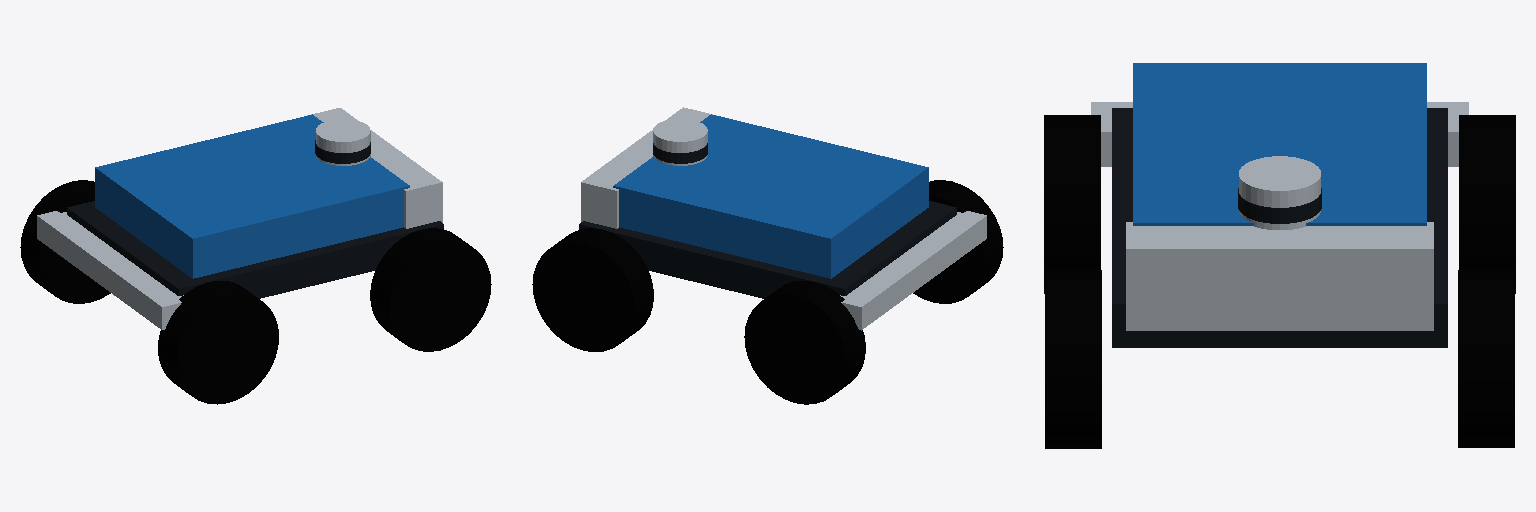
The robot description file, URDF, robot "agribot_ackermann_lightweight":
<?xml version="1.0"?>
<robot name="agribot_ackermann_lightweight">
  <!--
    Low-complexity RViz model for software-rendered targets. Joint geometry and
    calibrated sensor centers intentionally match ackermann_vehicle.urdf.
  -->
  <material name="body_blue">
    <color rgba="0.13 0.42 0.68 1"/>
  </material>
  <material name="body_silver">
    <color rgba="0.72 0.75 0.78 1"/>
  </material>
  <material name="dark_metal">
    <color rgba="0.10 0.12 0.14 1"/>
  </material>
  <material name="tire_black">
    <color rgba="0.025 0.025 0.025 1"/>
  </material>
  <material name="sensor_red">
    <color rgba="0.75 0.08 0.06 1"/>
  </material>

  <link name="base_link">
    <visual name="lightweight_lower_chassis">
      <origin xyz="0.263 0 0.085" rpy="0 0 0"/>
      <geometry>
        <box size="0.66 0.48 0.07"/>
      </geometry>
      <material name="dark_metal"/>
    </visual>
    <visual name="lightweight_body">
      <origin xyz="0.255 0 0.165" rpy="0 0 0"/>
      <geometry>
        <box size="0.54 0.42 0.10"/>
      </geometry>
      <material name="body_blue"/>
    </visual>
    <visual name="lightweight_front_cover">
      <origin xyz="0.555 0 0.145" rpy="0 0 0"/>
      <geometry>
        <box size="0.09 0.44 0.13"/>
      </geometry>
      <material name="body_silver"/>
    </visual>
    <visual name="lightweight_rear_bumper">
      <origin xyz="-0.075 0 0.075" rpy="0 0 0"/>
      <geometry>
        <box size="0.10 0.54 0.055"/>
      </geometry>
      <material name="body_silver"/>
    </visual>
    <visual name="lightweight_lidar_plate">
      <origin xyz="0.48 0 0.177" rpy="0 0 0"/>
      <geometry>
        <box size="0.16 0.18 0.014"/>
      </geometry>
      <material name="dark_metal"/>
    </visual>
    <visual name="lightweight_lidar_support_left">
      <origin xyz="0.48 0.065 0.147" rpy="0 0 0"/>
      <geometry>
        <box size="0.025 0.025 0.06"/>
      </geometry>
      <material name="dark_metal"/>
    </visual>
    <visual name="lightweight_lidar_support_right">
      <origin xyz="0.48 -0.065 0.147" rpy="0 0 0"/>
      <geometry>
        <box size="0.025 0.025 0.06"/>
      </geometry>
      <material name="dark_metal"/>
    </visual>
    <visual name="hipnuc_n300pro">
      <origin xyz="0.1425 0 0.143" rpy="0 0 0"/>
      <geometry>
        <box size="0.028 0.025 0.015"/>
      </geometry>
      <material name="sensor_red"/>
    </visual>
    <visual name="lslidar_c16_v4">
      <origin xyz="0.48 0 0.233" rpy="0 0 0"/>
      <geometry>
        <cylinder radius="0.059" length="0.078"/>
      </geometry>
      <material name="body_silver"/>
    </visual>
    <visual name="lightweight_lidar_band">
      <origin xyz="0.48 0 0.233" rpy="0 0 0"/>
      <geometry>
        <cylinder radius="0.060" length="0.025"/>
      </geometry>
      <material name="dark_metal"/>
    </visual>
  </link>

  <link name="front_left_steering_link"/>
  <joint name="front_left_steering_joint" type="revolute">
    <origin xyz="0.5258472 0.2949655 0.0015843" rpy="0 0 0"/>
    <parent link="base_link"/>
    <child link="front_left_steering_link"/>
    <axis xyz="0 0 1"/>
    <limit lower="-0.384" upper="0.384" effort="200" velocity="1.5"/>
  </joint>

  <link name="front_right_steering_link"/>
  <joint name="front_right_steering_joint" type="revolute">
    <origin xyz="0.5273242 -0.2949655 0.0015843" rpy="0 0 0"/>
    <parent link="base_link"/>
    <child link="front_right_steering_link"/>
    <axis xyz="0 0 1"/>
    <limit lower="-0.384" upper="0.384" effort="200" velocity="1.5"/>
  </joint>

  <link name="front_left_wheel_link">
    <visual>
      <origin xyz="0 0 0" rpy="1.5707963267948966 0 0"/>
      <geometry>
        <cylinder radius="0.1275" length="0.081"/>
      </geometry>
      <material name="tire_black"/>
    </visual>
  </link>
  <joint name="front_left_wheel_joint" type="continuous">
    <origin xyz="0 0 0" rpy="0 0 0"/>
    <parent link="front_left_steering_link"/>
    <child link="front_left_wheel_link"/>
    <axis xyz="0 1 0"/>
  </joint>

  <link name="front_right_wheel_link">
    <visual>
      <origin xyz="0 0 0" rpy="1.5707963267948966 0 0"/>
      <geometry>
        <cylinder radius="0.1275" length="0.081"/>
      </geometry>
      <material name="tire_black"/>
    </visual>
  </link>
  <joint name="front_right_wheel_joint" type="continuous">
    <origin xyz="0 0 0" rpy="0 0 0"/>
    <parent link="front_right_steering_link"/>
    <child link="front_right_wheel_link"/>
    <axis xyz="0 1 0"/>
  </joint>

  <link name="rear_left_wheel_link">
    <visual>
      <origin xyz="0 0 0" rpy="1.5707963267948966 0 0"/>
      <geometry>
        <cylinder radius="0.1275" length="0.081"/>
      </geometry>
      <material name="tire_black"/>
    </visual>
  </link>
  <joint name="rear_left_wheel_joint" type="continuous">
    <origin xyz="0.0000002 0.2952585 0.0000003" rpy="0 0 0"/>
    <parent link="base_link"/>
    <child link="rear_left_wheel_link"/>
    <axis xyz="0 1 0"/>
  </joint>

  <link name="rear_right_wheel_link">
    <visual>
      <origin xyz="0 0 0" rpy="1.5707963267948966 0 0"/>
      <geometry>
        <cylinder radius="0.1275" length="0.081"/>
      </geometry>
      <material name="tire_black"/>
    </visual>
  </link>
  <joint name="rear_right_wheel_joint" type="continuous">
    <origin xyz="0.0000002 -0.2952585 0.0000003" rpy="0 0 0"/>
    <parent link="base_link"/>
    <child link="rear_right_wheel_link"/>
    <axis xyz="0 1 0"/>
  </joint>
</robot>

--- What the picture shows (computed from the rendered views, not written in the file) ---
3 views of the same robot in one strip: view 1: azimuth 30°, elevation 25°; view 2: azimuth 150°, elevation 25°; view 3: azimuth 270°, elevation 25° (orthographic).
Model agribot_ackermann_lightweight with 7 links and 6 joints (2 revolute, 4 continuous), rooted at base_link, posed all joints at 0.
Visible links, largest first — view 1: base_link, front_right_wheel_link, rear_right_wheel_link, rear_left_wheel_link; view 2: base_link, front_left_wheel_link, rear_left_wheel_link, rear_right_wheel_link; view 3: base_link, front_right_wheel_link, front_left_wheel_link, rear_left_wheel_link, rear_right_wheel_link.
Boxes of the visible links, <box> form: base_link: <box>37,108,443,329</box>; front_right_wheel_link: <box>370,228,491,351</box>; rear_right_wheel_link: <box>158,281,278,404</box>; rear_left_wheel_link: <box>20,180,110,303</box>; base_link: <box>579,107,986,330</box>; front_left_wheel_link: <box>532,228,653,351</box>; rear_left_wheel_link: <box>744,281,865,404</box>; rear_right_wheel_link: <box>913,180,1003,303</box>; base_link: <box>1091,63,1468,347</box>; front_right_wheel_link: <box>1045,270,1101,448</box>; front_left_wheel_link: <box>1458,270,1514,447</box>; rear_left_wheel_link: <box>1459,115,1515,293</box>; rear_right_wheel_link: <box>1044,115,1100,293</box>.
Size in the robot's own frame: 0.7823 by 0.6715 by 0.3995 metres.
Geometry: primitives only (box / cylinder / sphere), no mesh files.
